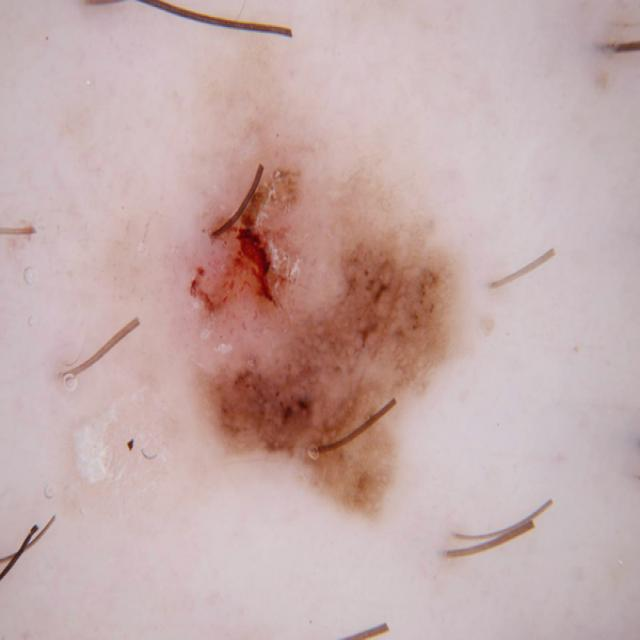NV: (86, 14, 470, 525)
